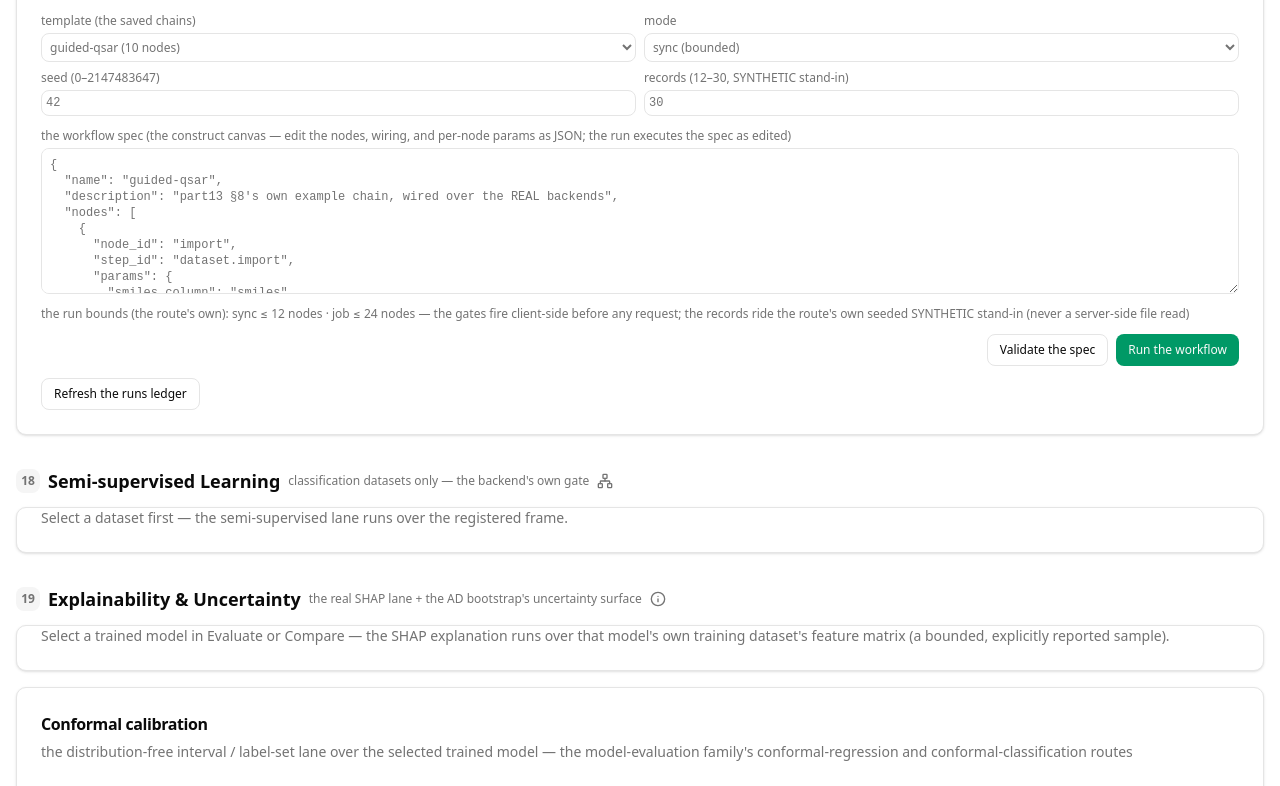
Test: the §8 Workflow Builder lane of the Machine Learning workspace › renders the bounded runs ledger with the honest lifetime note
(page scrolled)
Click the button "Refresh the runs ledger" at (120, 394), box left=41, top=378, right=200, bottom=410
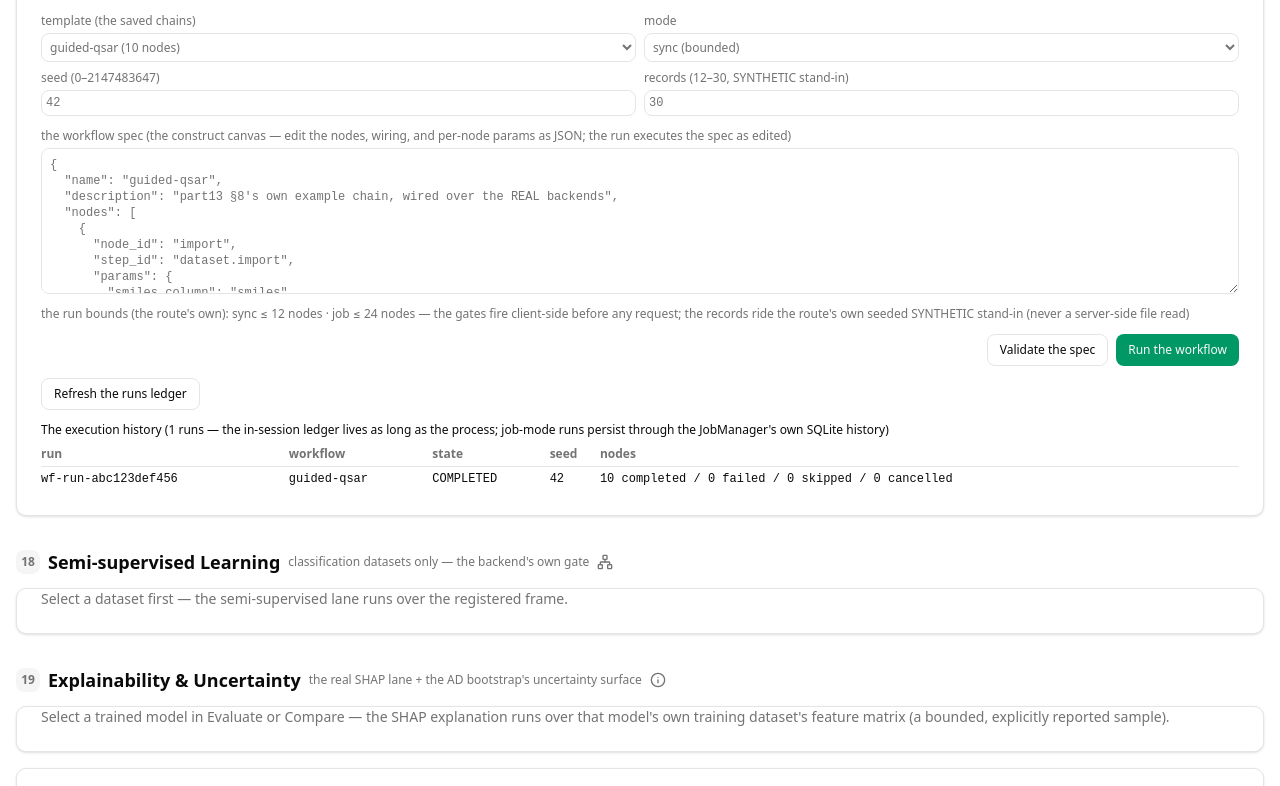
Now the text "The execution history (1 runs —" is shown, box left=41, top=421, right=889, bottom=438
Now the text "the in-session ledger lives as long as the process" is shown, box left=222, top=421, right=885, bottom=438
Now the text "10 completed / 0 failed / 0 skipped / 0 cancelled" is shown, box left=600, top=466, right=1239, bottom=491
